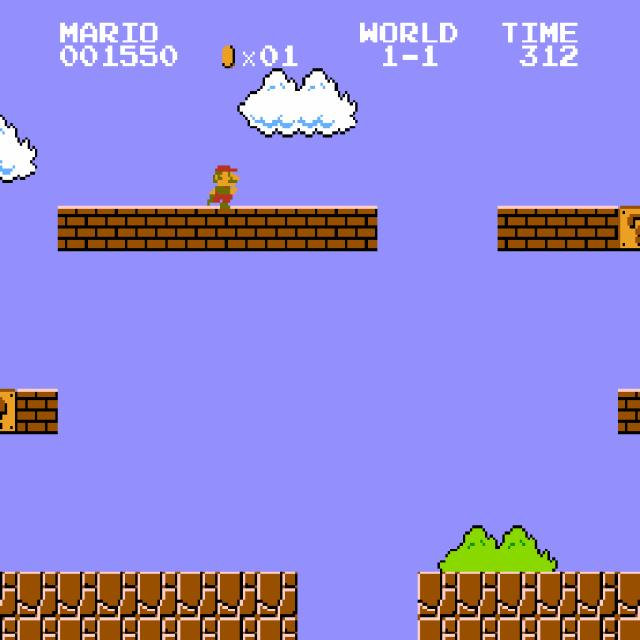brick_block: (17, 389, 58, 434), (57, 206, 98, 251), (97, 206, 138, 251), (137, 206, 178, 251), (177, 206, 218, 251), (217, 206, 258, 251), (257, 206, 298, 251), (297, 206, 338, 251), (337, 206, 378, 251), (497, 206, 538, 251), (537, 206, 578, 251), (577, 206, 618, 251), (618, 389, 640, 434)
little_mario: (200, 160, 242, 208)
mystery_block: (618, 206, 640, 251), (0, 388, 17, 434)
undestructible_block: (17, 572, 58, 617), (57, 572, 98, 617), (97, 572, 138, 617), (137, 572, 178, 617), (177, 572, 218, 617), (217, 572, 258, 617), (257, 572, 298, 617), (417, 572, 458, 617), (457, 572, 498, 617), (497, 572, 538, 617), (537, 572, 578, 617), (577, 572, 618, 617), (618, 572, 640, 617), (17, 617, 58, 640), (57, 617, 98, 640), (97, 617, 138, 640), (137, 617, 178, 640), (177, 617, 218, 640), (217, 617, 258, 640), (257, 617, 298, 640), (417, 617, 458, 640), (457, 617, 498, 640), (497, 617, 538, 640), (537, 617, 578, 640), (577, 617, 618, 640), (0, 571, 17, 617), (618, 617, 640, 640), (0, 617, 17, 639)
